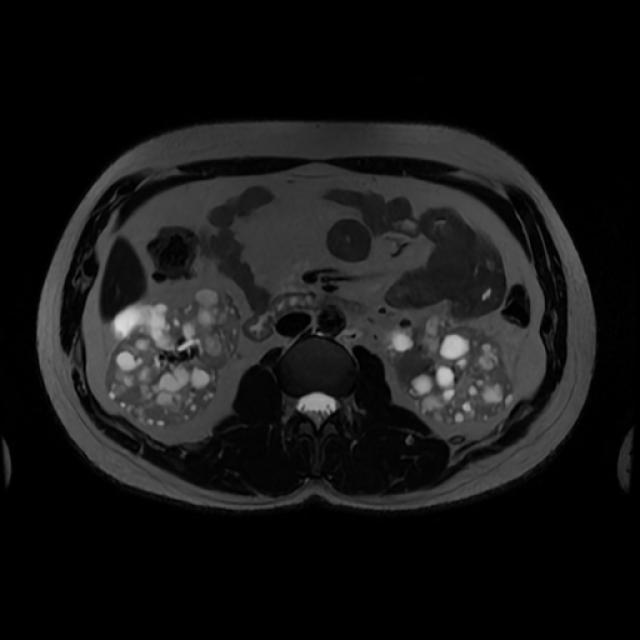sag: (104, 285, 240, 430)
sol: (384, 314, 514, 424)
